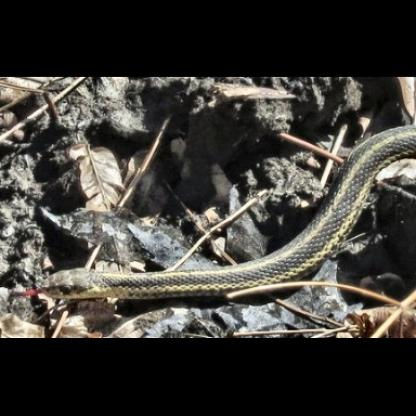Snake: (32, 122, 416, 304)
